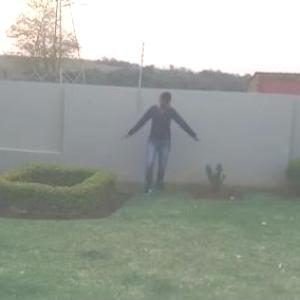land: (120, 86, 203, 200)
